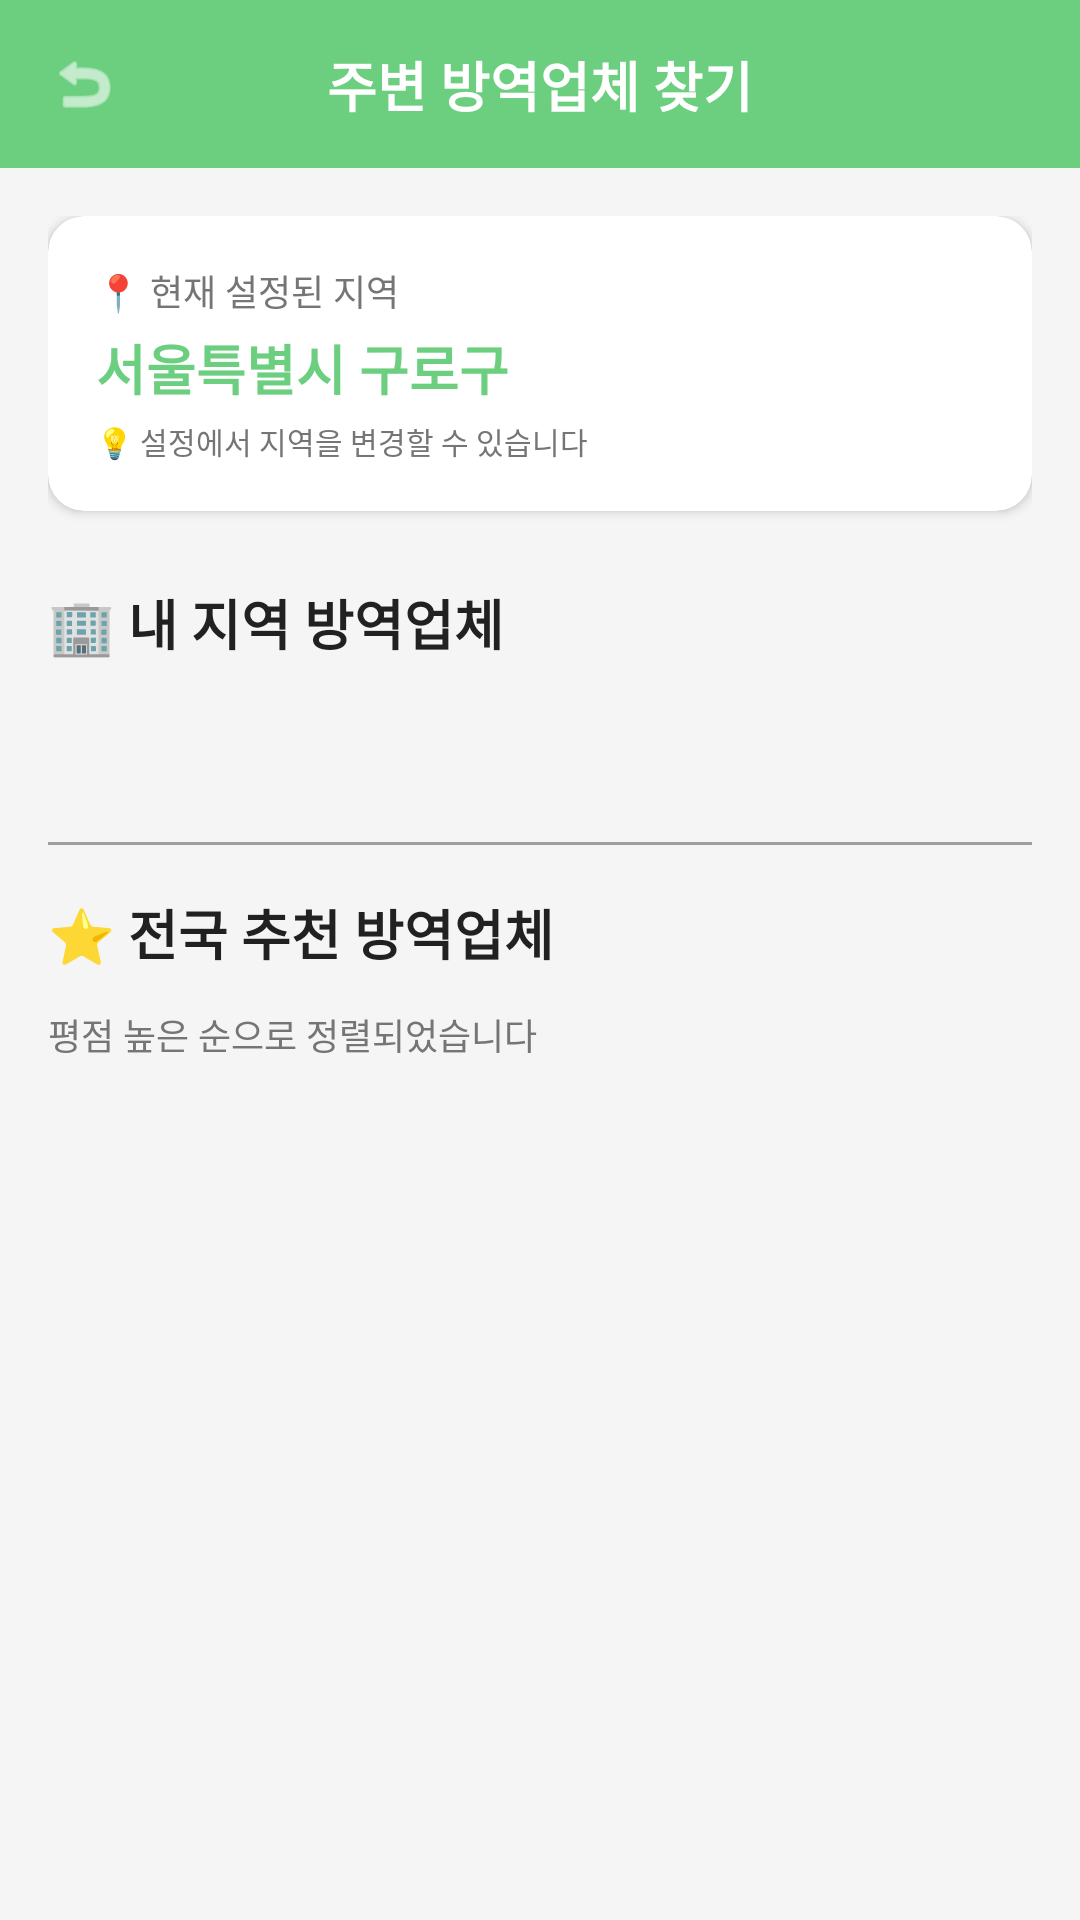

Icons on this 1080px×1920px Android screen, each with the point to tap as [x,y]:
revert: [85,84]
